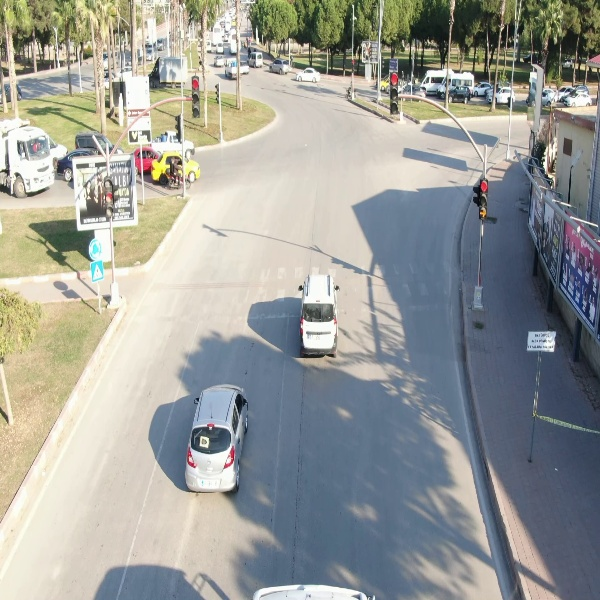car: (181, 380, 251, 495), (297, 273, 341, 358), (486, 84, 516, 106), (562, 89, 596, 108), (267, 57, 291, 77), (295, 66, 322, 83), (246, 50, 264, 70), (211, 53, 228, 69)
